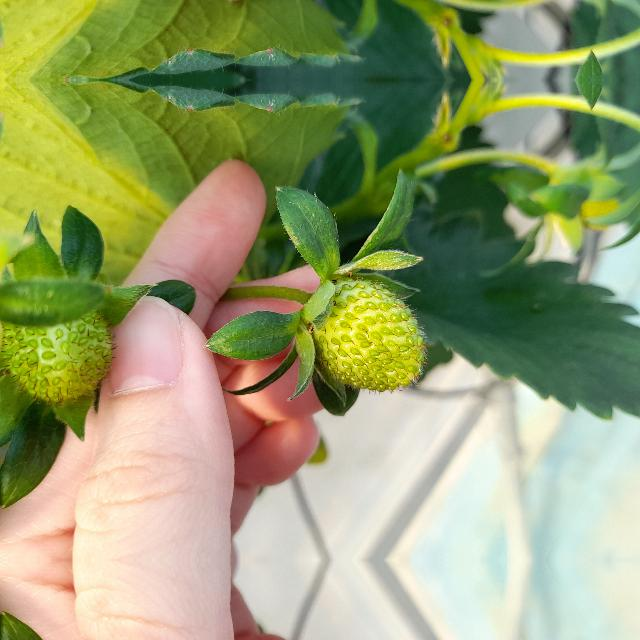Health_25: (312, 274, 428, 394), (0, 305, 114, 411)
